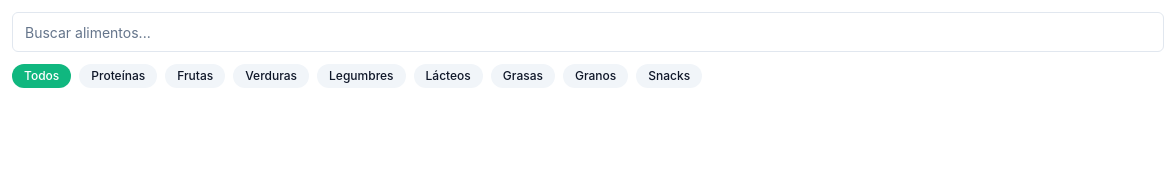
it: FoodSearch › shows empty state when query has no results
Note: Type a query that returns no results
Type "nonexistent" into the field with placeholder "Buscar alimentos..." at [588, 32], box left=12, top=12, right=1164, bottom=52
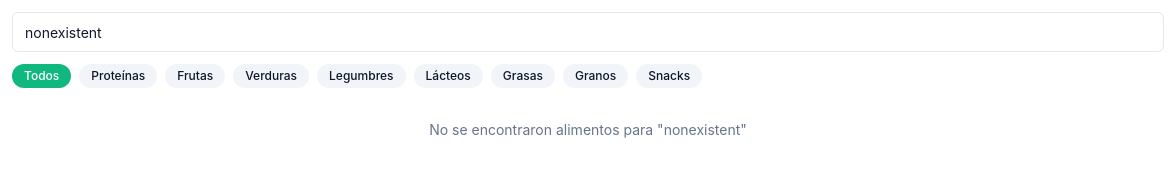
Now the text "No se encontraron alimentos para \"nonexistent\"" is shown, box left=429, top=121, right=747, bottom=138
